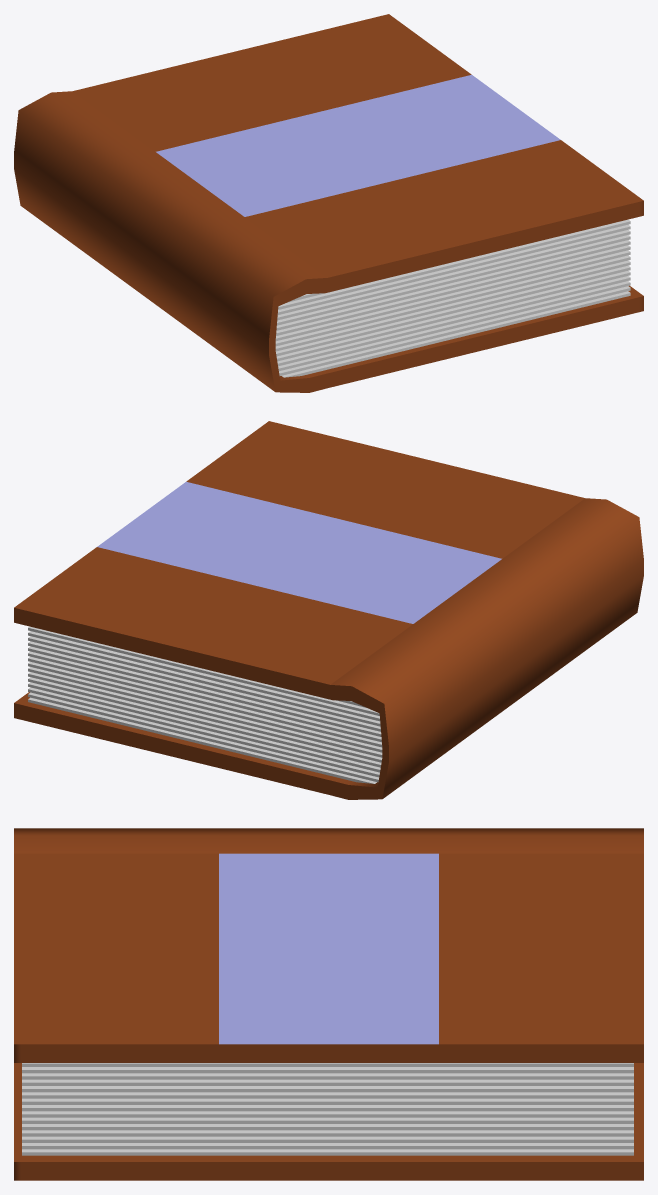
Rendered from book2.glb.
The picture shows the model from 3 angles, top to bottom: view 1: azimuth 30°, elevation 25°; view 2: azimuth 150°, elevation 25°; view 3: azimuth 270°, elevation 25°; orthographic projection. The views are drawn at different scales.
Visible parts, largest first — view 1: book close_paper.016; view 2: book close_paper.016; view 3: book close_paper.016.
Boxes of the visible parts, box(x1,y1,x2,y2) form: book close_paper.016: box(14, 14, 643, 392); book close_paper.016: box(14, 421, 643, 799); book close_paper.016: box(14, 828, 643, 1180).
Size of the model in its own units: 0.3693 by 0.1078 by 0.435.
